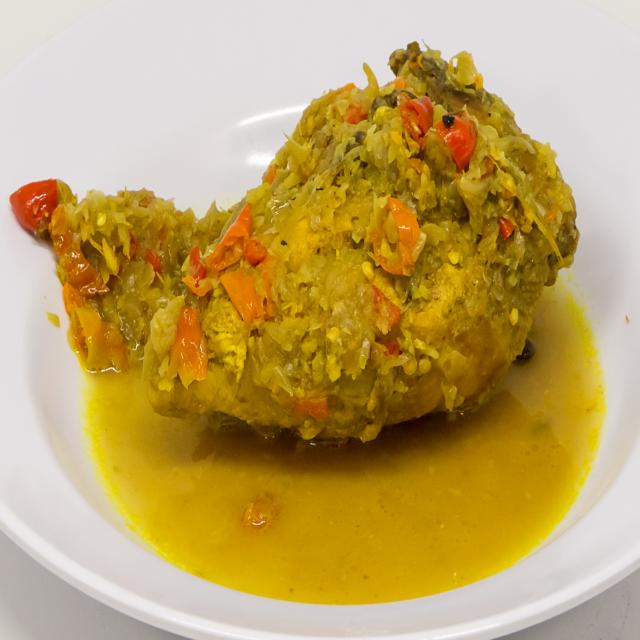Ayam-Betutu: (52, 32, 584, 461)
